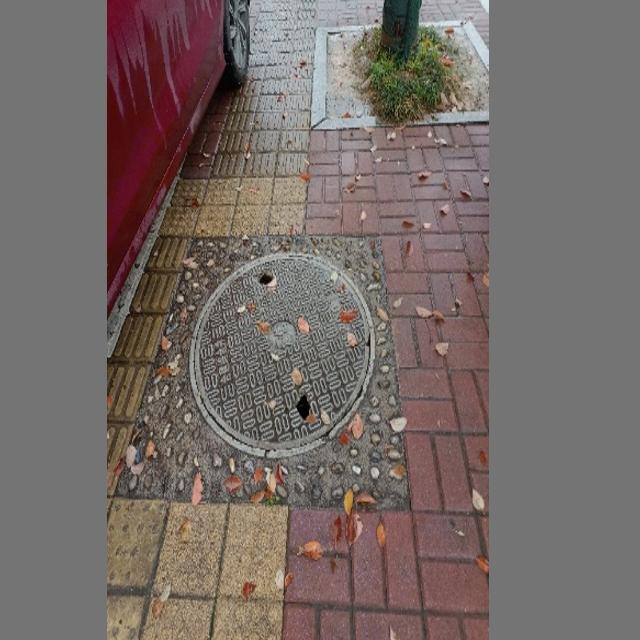good: (188, 252, 374, 456)
